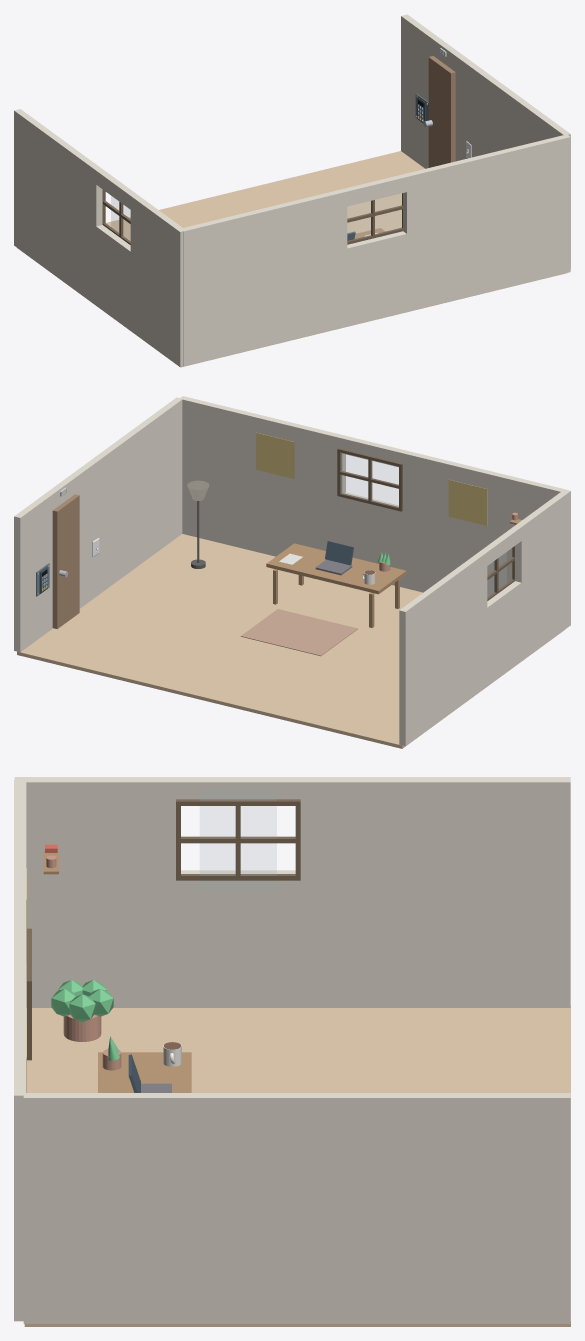
The model's file is workspace_scene.glb.
3 renders of one model, top to bottom at view 1: azimuth 30°, elevation 25°; view 2: azimuth 150°, elevation 25°; view 3: azimuth 270°, elevation 25°, orthographic. The views are drawn at different scales.
Visible parts, largest first — view 1: BackWall, LeftWall, RightWall, Floor, Door, BackWallWindowGlass, BackWallWindowFrame, LeftWallWindowFrame; view 2: Floor, BackWall, LeftWall, RightWall, Door, Rug, DeskTop, BackWallWindowGlass, Poster1, Poster2, BackWallWindowFrame, LaptopScreen (+1 smaller); view 3: RightWall, LeftWall, Floor, BackWall, LeftWallWindowGlass, LeftWallWindowFrame, DeskTop, PlantPot1.
Part boxes in pixels (x1,y1,x2,y2): BackWall: [180, 135, 570, 366]; LeftWall: [14, 109, 185, 366]; RightWall: [401, 14, 570, 268]; Floor: [17, 151, 566, 367]; Door: [428, 56, 455, 167]; BackWallWindowGlass: [348, 194, 400, 240]; BackWallWindowFrame: [347, 193, 402, 244]; LeftWallWindowFrame: [102, 189, 130, 244]; Floor: [17, 534, 562, 748]; BackWall: [180, 396, 567, 596]; LeftWall: [399, 490, 570, 746]; RightWall: [14, 397, 182, 652]; Door: [52, 494, 79, 629]; Rug: [240, 609, 357, 656]; DeskTop: [266, 543, 406, 594]; BackWallWindowGlass: [341, 453, 398, 507]; Poster1: [448, 479, 487, 525]; Poster2: [256, 432, 294, 478]; BackWallWindowFrame: [337, 448, 402, 511]; LaptopScreen: [325, 541, 353, 565]; RightWall: [23, 1093, 570, 1323]; LeftWall: [14, 777, 570, 1007]; Floor: [24, 1005, 570, 1326]; BackWall: [14, 779, 26, 1321]; LeftWallWindowGlass: [200, 789, 276, 891]; LeftWallWindowFrame: [176, 799, 300, 880]; DeskTop: [98, 1052, 191, 1092]; PlantPot1: [63, 1014, 101, 1041].
Size of the model in its own units: 12.2 by 4.1 by 8.94.
